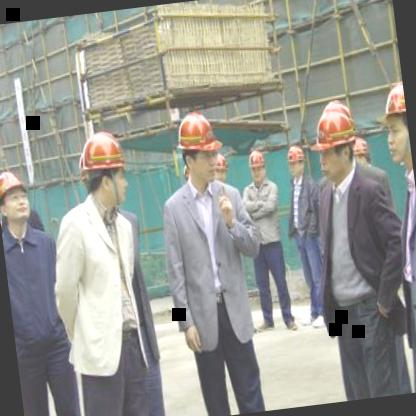helmet: (75, 129, 133, 213), (308, 96, 364, 179), (173, 110, 222, 186), (373, 78, 411, 160), (0, 169, 35, 232), (241, 143, 268, 183), (282, 140, 306, 180)
